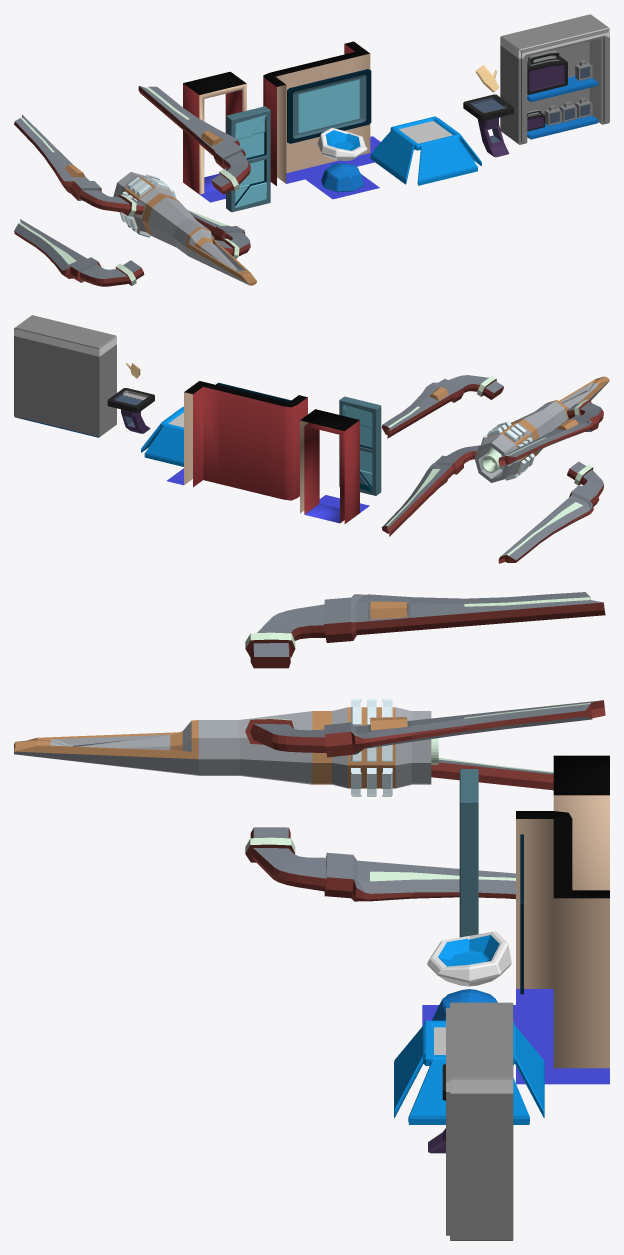
The model's file is Scifi Gallery.glb.
3 views of the same model, one above another, from view 1: azimuth 30°, elevation 25°; view 2: azimuth 150°, elevation 25°; view 3: azimuth 270°, elevation 25° (orthographic). The views are drawn at different scales.
Parts seen in each view (by area): view 1: wings, serverRack, ship_body, table, screen, DOORWAY, door, Corner_BL.001, chair, Wall_B.002, servers type A, handScaner (+3 smaller); view 2: serverRack, wings, DOORWAY, Wall_B.002, ship_body, InnerCorner_BL, Corner_BL.001, door, table, handScaner, core; view 3: wings, ship_body, serverRack, InnerCorner_BL, Corner_BL.001, DOORWAY, table, chair, door, Wall_B.002.
Part boxes in pixels (left/top/right/bottom): wings: left=14, top=86, right=250, bottom=286; serverRack: left=500, top=14, right=609, bottom=144; ship_body: left=113, top=172, right=256, bottom=285; table: left=370, top=116, right=481, bottom=185; screen: left=287, top=69, right=371, bottom=143; DOORWAY: left=183, top=71, right=246, bottom=202; door: left=226, top=106, right=270, bottom=212; Corner_BL.001: left=263, top=68, right=304, bottom=185; chair: left=317, top=128, right=367, bottom=192; Wall_B.002: left=289, top=56, right=346, bottom=179; servers type A: left=527, top=50, right=567, bottom=131; handScaner: left=463, top=94, right=513, bottom=157; serverRack: left=14, top=315, right=116, bottom=437; wings: left=381, top=375, right=603, bottom=563; DOORWAY: left=300, top=409, right=369, bottom=523; Wall_B.002: left=221, top=387, right=270, bottom=495; ship_body: left=474, top=376, right=609, bottom=482; InnerCorner_BL: left=167, top=381, right=225, bottom=487; Corner_BL.001: left=265, top=395, right=307, bottom=500; door: left=339, top=396, right=381, bottom=495; table: left=141, top=406, right=183, bottom=466; handScaner: left=107, top=388, right=154, bottom=433; core: left=481, top=447, right=504, bottom=472; wings: left=245, top=592, right=605, bottom=901; ship_body: left=14, top=699, right=431, bottom=796; serverRack: left=446, top=1002, right=513, bottom=1240; InnerCorner_BL: left=516, top=874, right=609, bottom=1084; Corner_BL.001: left=516, top=811, right=572, bottom=1004; DOORWAY: left=553, top=755, right=609, bottom=890; table: left=394, top=1020, right=544, bottom=1124; chair: left=427, top=931, right=511, bottom=1020; door: left=459, top=769, right=478, bottom=937; Wall_B.002: left=516, top=835, right=572, bottom=1044.
Size of the model in its own units: 12.06 by 2.29 by 6.35.
Materials: 13 (8 with a texture image).
